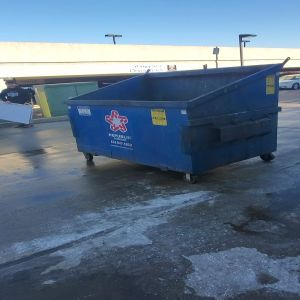Dumpster: (66, 66, 286, 185)
Person: (1, 80, 34, 105)
